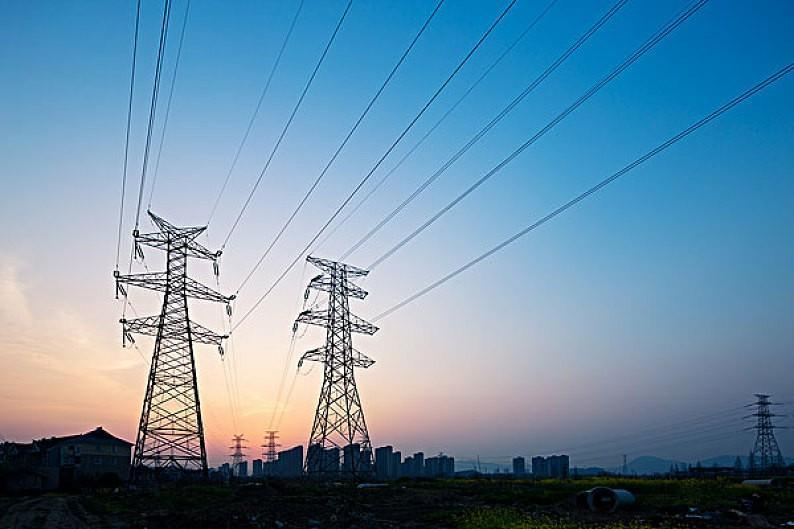power_tower: (126, 213, 245, 462), (292, 253, 394, 465), (736, 386, 794, 463), (258, 422, 285, 466), (225, 432, 252, 467)
